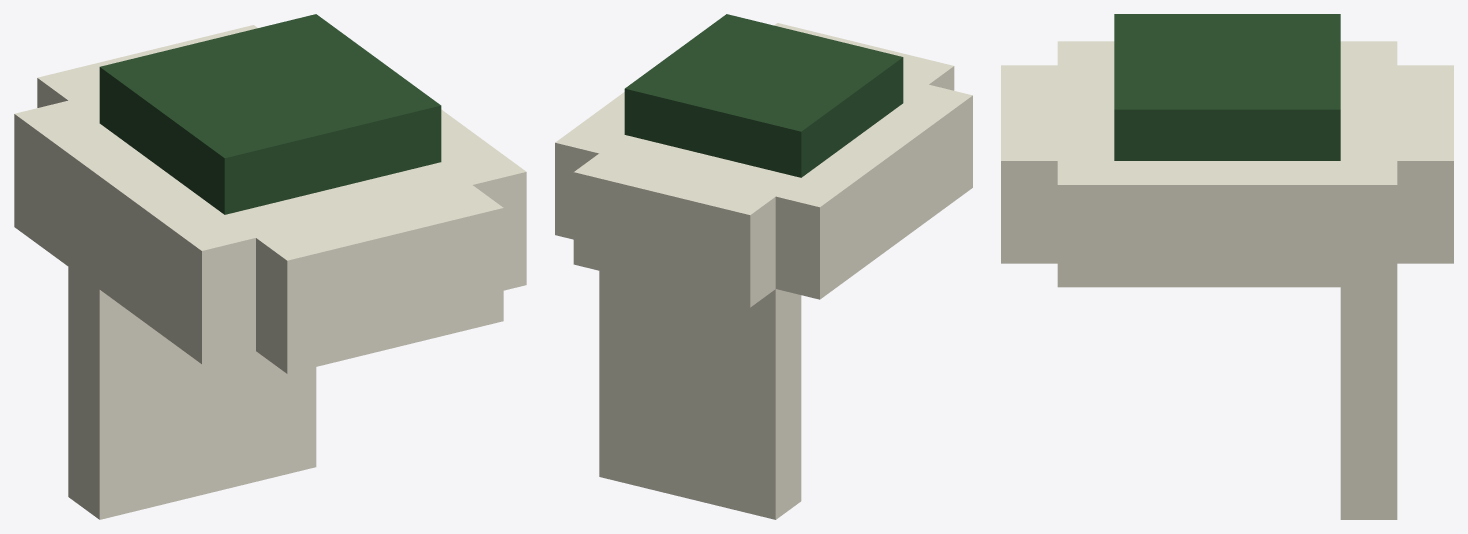
The model's file is characters_export_red-182-helm_lgt_2a_sh.obj.
The picture shows the model from 3 angles, left to right: view 1: azimuth 30°, elevation 25°; view 2: azimuth 150°, elevation 25°; view 3: azimuth 270°, elevation 25°; orthographic projection. The views are drawn at different scales.
Parts seen in each view (by area): view 1: helm_lgt_2a_sh; view 2: helm_lgt_2a_sh; view 3: helm_lgt_2a_sh.
Boxes of the visible parts, left/top/right/bottom form: helm_lgt_2a_sh: left=14, top=14, right=526, bottom=519; helm_lgt_2a_sh: left=555, top=14, right=972, bottom=519; helm_lgt_2a_sh: left=1001, top=14, right=1453, bottom=519.
Size of the model in its own units: 0.6 by 0.8 by 0.8.
Materials: 1 (1 with a texture image).
